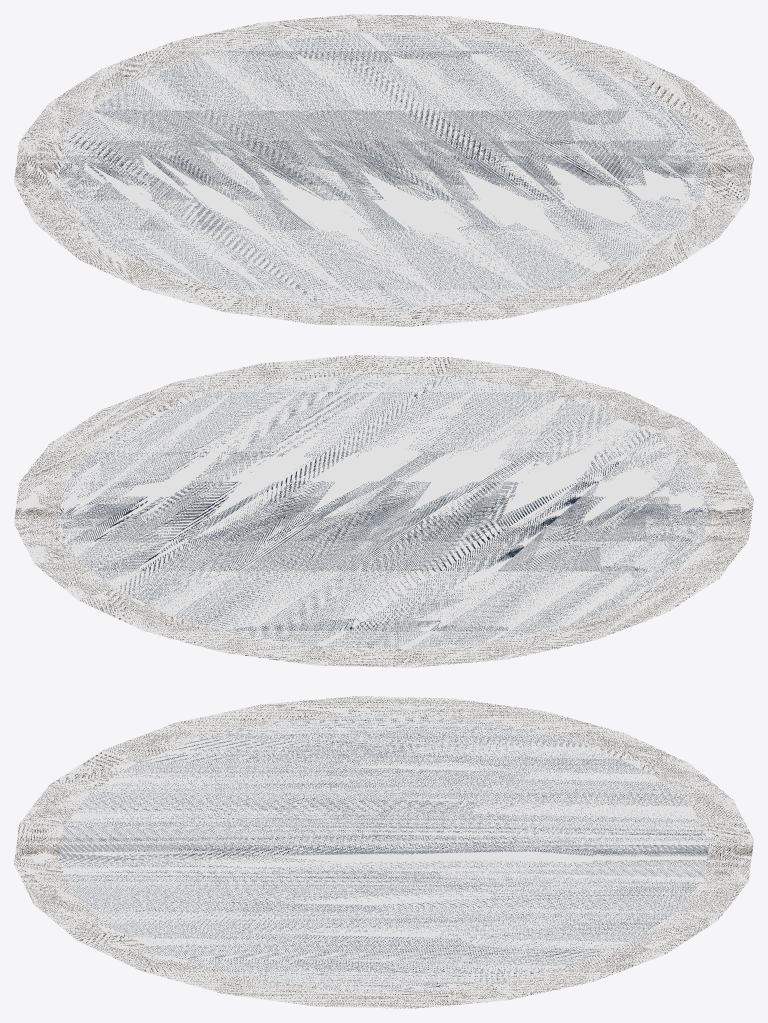
File: Disc.dae
3 views of the same model, one above another, from view 1: azimuth 30°, elevation 25°; view 2: azimuth 150°, elevation 25°; view 3: azimuth 270°, elevation 25° (orthographic).
Parts seen in each view (by area): view 1: SketchUp (×2); view 2: SketchUp (×2); view 3: SketchUp (×2).
Boxes of the visible parts, bbox=[...] form: SketchUp (×2): bbox=[14, 14, 753, 326]; SketchUp (×2): bbox=[14, 355, 753, 667]; SketchUp (×2): bbox=[14, 696, 753, 1008].
Size of the model in its own units: 31.66 by 31.66 by 0.
3 materials, 2 textured.
